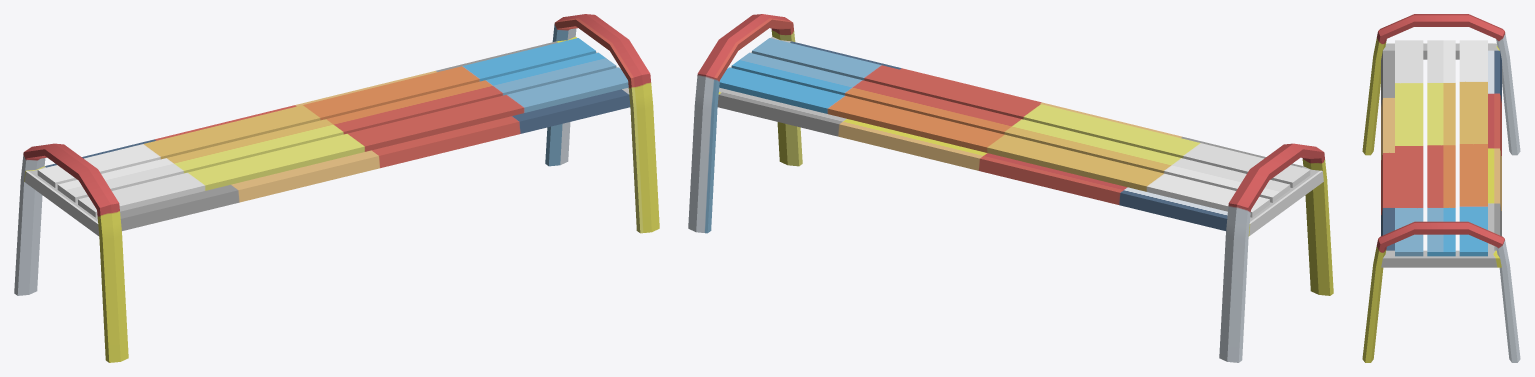
The model's file is street_furniture_outside_bench_1.fbx.
The picture shows the model from 3 angles, left to right: view 1: azimuth 30°, elevation 25°; view 2: azimuth 150°, elevation 25°; view 3: azimuth 270°, elevation 25°; orthographic projection. The views are drawn at different scales.
Parts seen in each view (by area): view 1: bench_1; view 2: bench_1; view 3: bench_1.
Part boxes in pixels (box(x1,y1,x2,y2)): bench_1: box(14, 14, 659, 362); bench_1: box(688, 14, 1333, 362); bench_1: box(1362, 14, 1520, 362).
Size of the model in its own units: 153 by 45.12 by 47.47.
